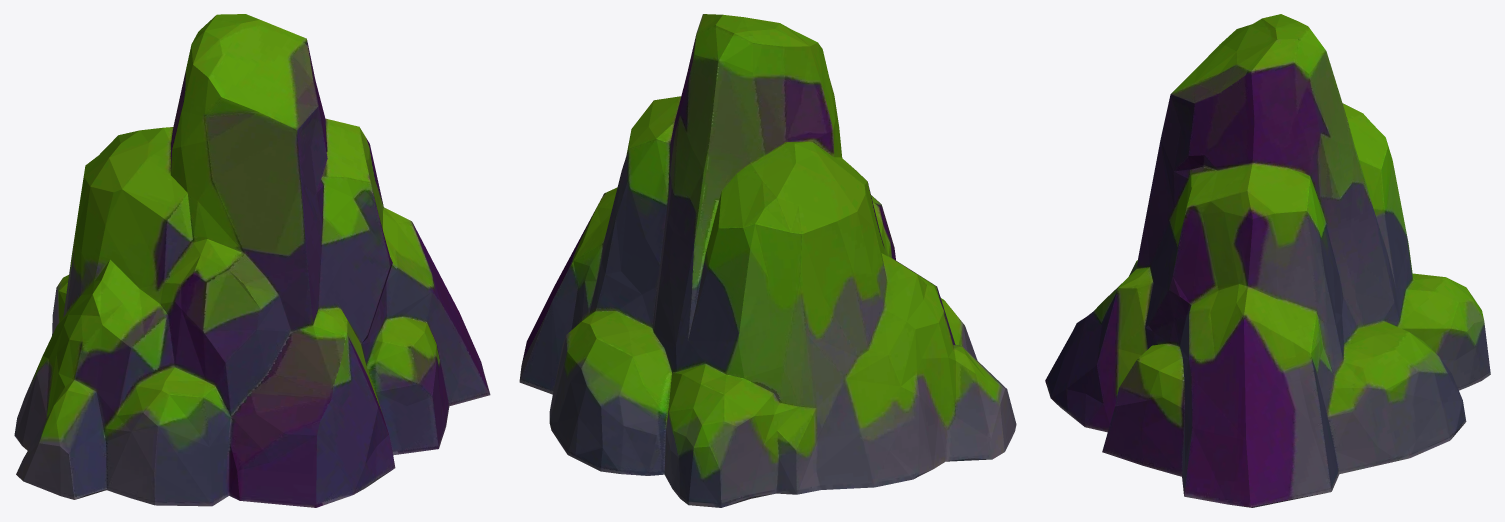
Rendered from mountain_rock_outcrop.glb.
3 renders of one model, left to right at view 1: azimuth 30°, elevation 25°; view 2: azimuth 150°, elevation 25°; view 3: azimuth 270°, elevation 25°, orthographic. The views are drawn at different scales.
Size of the model in its own units: 1.98 by 1.57 by 1.7.
Materials: 1 (1 with a texture image).
